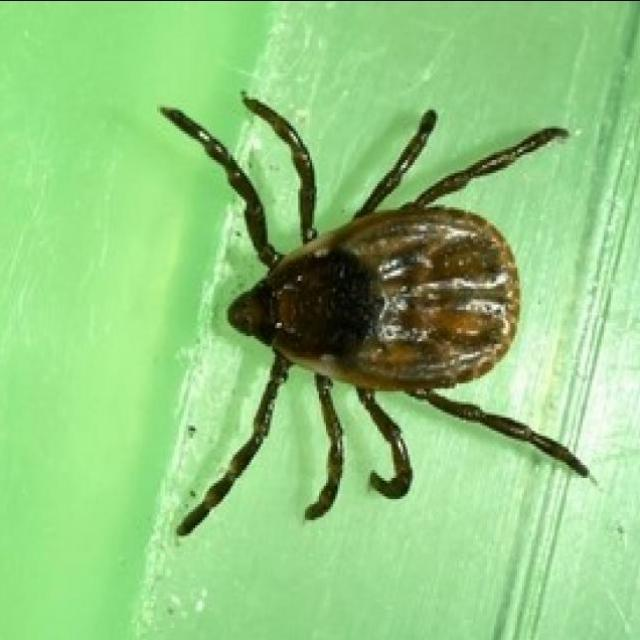Rhipicephalus Sanguineus-F: (158, 93, 592, 537)
